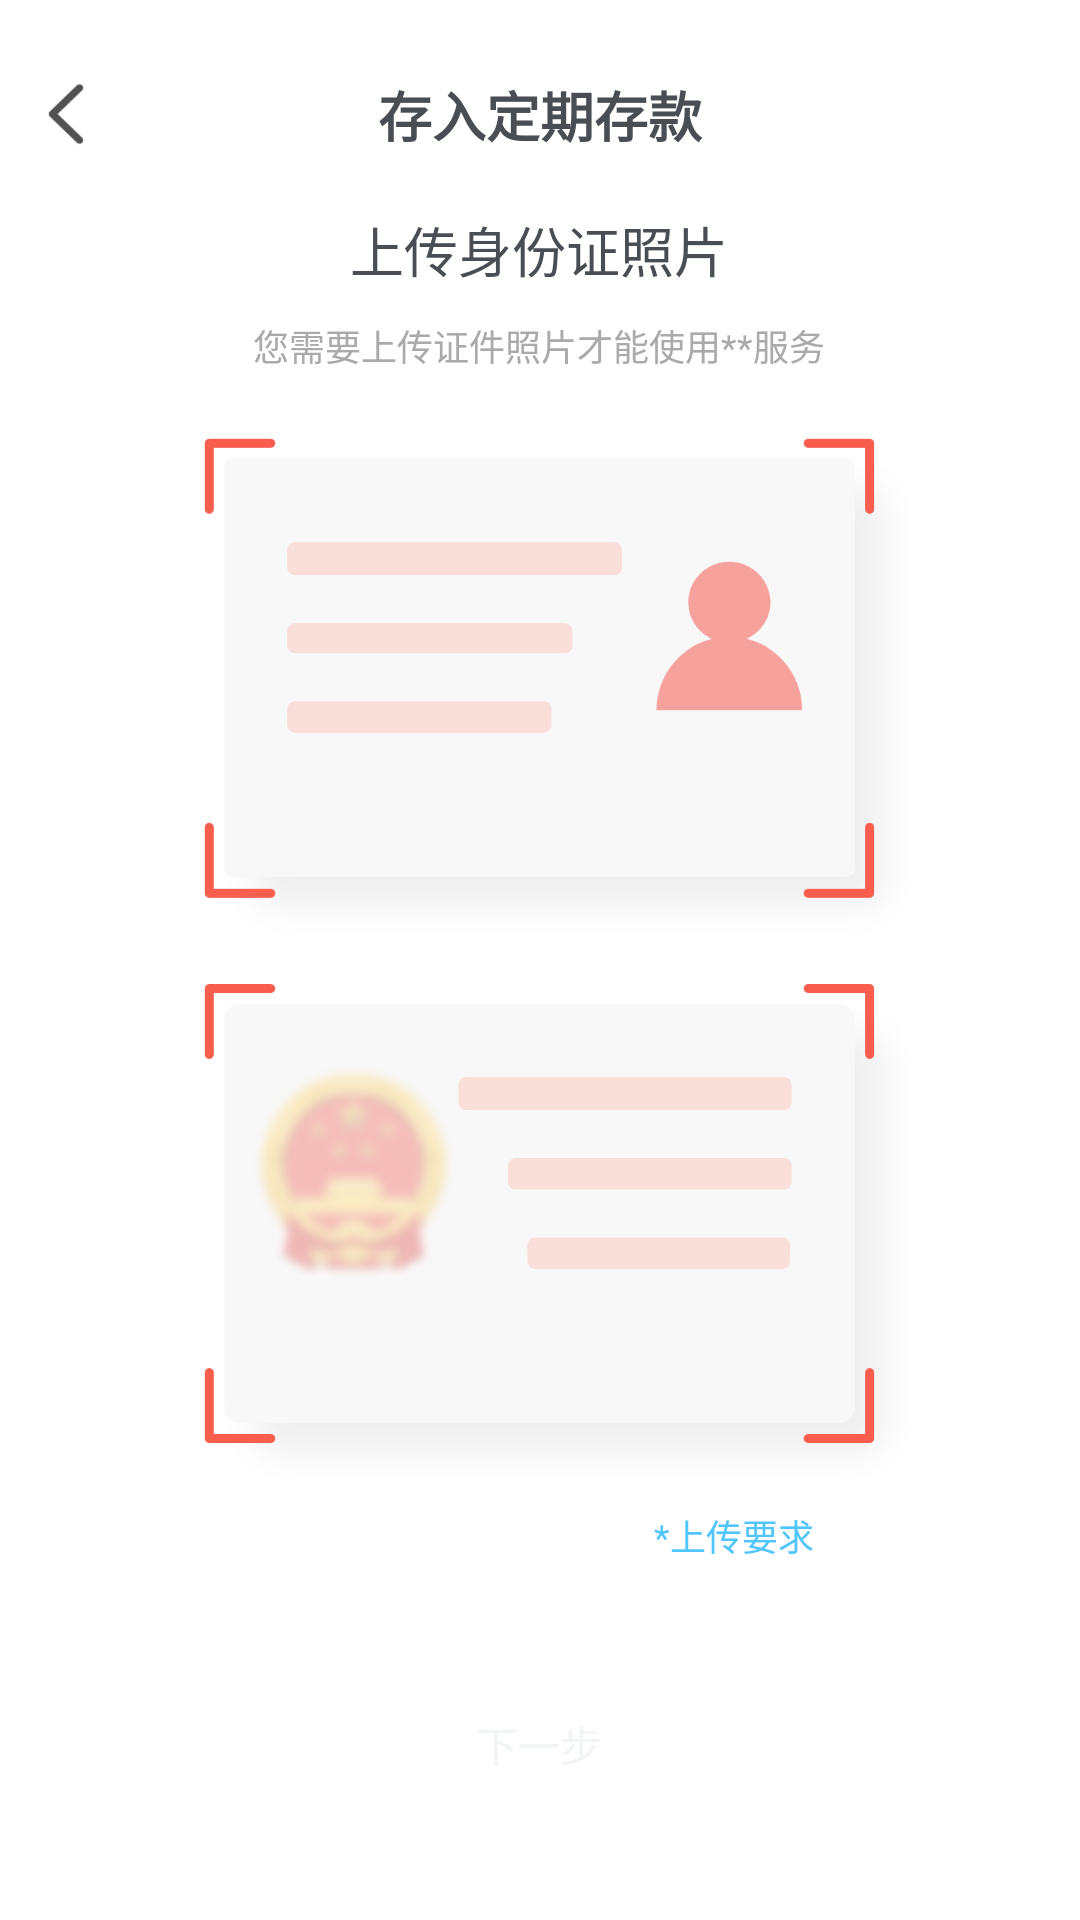

Locate icon controls on the screen. Image size 1080w x 1920h, boxes as (x1, y1, x2, y2).
back: (48, 84, 84, 144)
